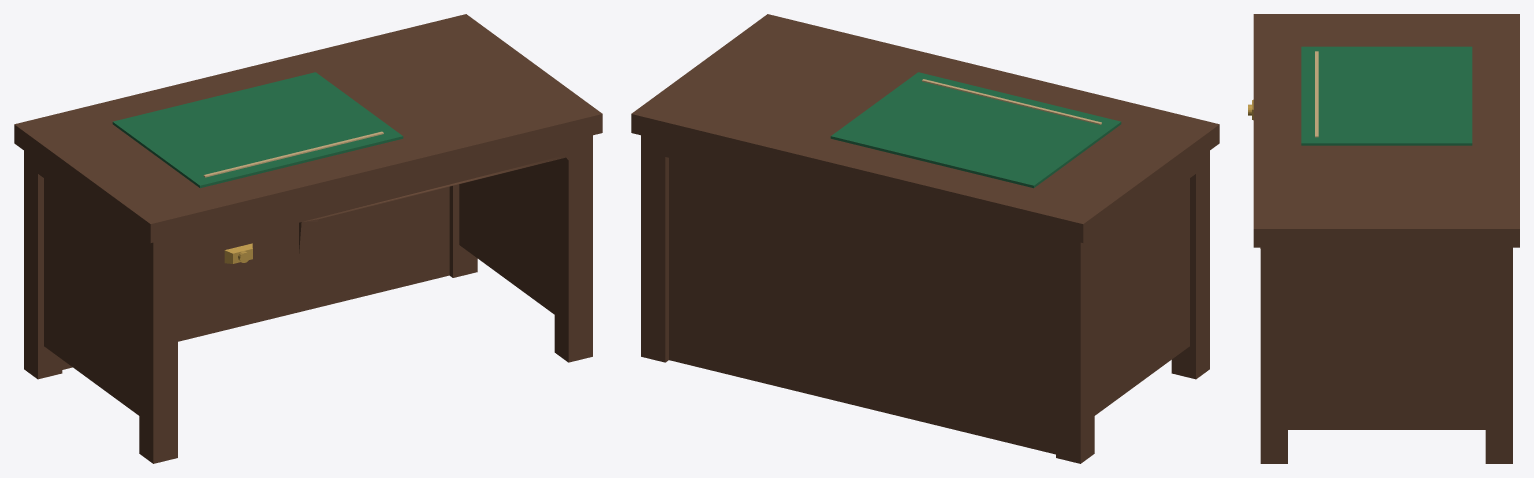
The model's file is desk.glb.
3 renders of one model, left to right at view 1: azimuth 30°, elevation 25°; view 2: azimuth 150°, elevation 25°; view 3: azimuth 270°, elevation 25°, orthographic. The views are drawn at different scales.
Parts seen in each view (by area): view 1: desk(Clone), drawer; view 2: desk(Clone); view 3: desk(Clone).
Boxes of the visible parts, bbox=[...] form: desk(Clone): bbox=[14, 14, 602, 463]; drawer: bbox=[178, 222, 298, 283]; desk(Clone): bbox=[631, 14, 1219, 463]; desk(Clone): bbox=[1253, 14, 1519, 463].
Size of the model in its own units: 0.7345 by 0.3844 by 0.3923.
